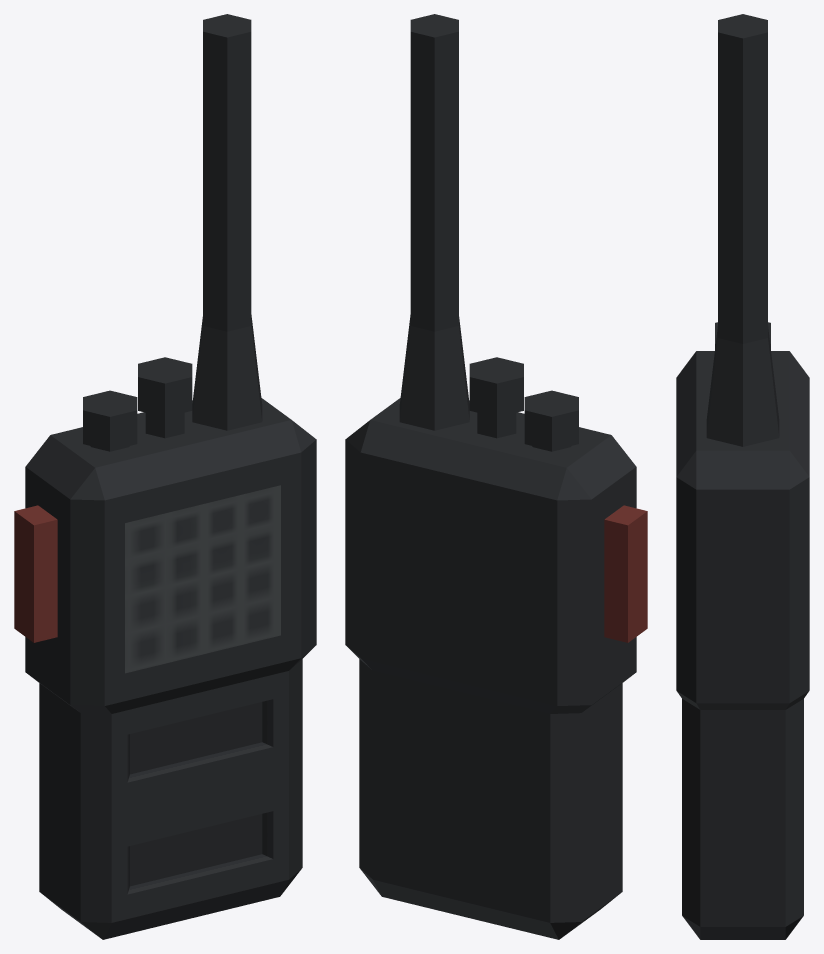
The model's file is SM_Item_WalkieTalkie_01.fbx.
The picture shows the model from 3 angles, left to right: view 1: azimuth 30°, elevation 25°; view 2: azimuth 150°, elevation 25°; view 3: azimuth 270°, elevation 25°; orthographic projection. The views are drawn at different scales.
Visible parts, largest first — view 1: SM_Item_WalkieTalkie_01; view 2: SM_Item_WalkieTalkie_01; view 3: SM_Item_WalkieTalkie_01.
Boxes of the visible parts, x1,y1,x2,y2 form: SM_Item_WalkieTalkie_01: (14,14,316,939); SM_Item_WalkieTalkie_01: (345,14,647,939); SM_Item_WalkieTalkie_01: (676,14,809,939).
Size of the model in its own units: 9.73 by 29.75 by 4.
